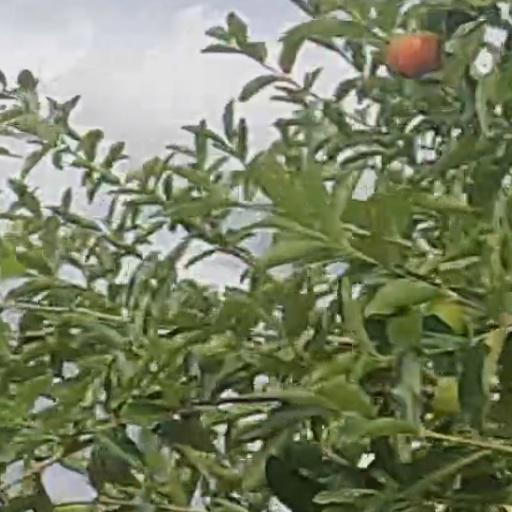acerola_vermelha: (384, 33, 440, 75)
